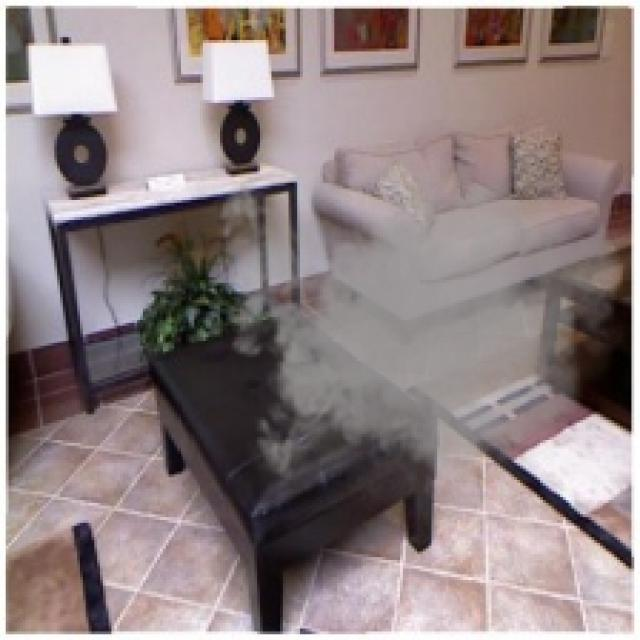smoke: (205, 117, 626, 540)
